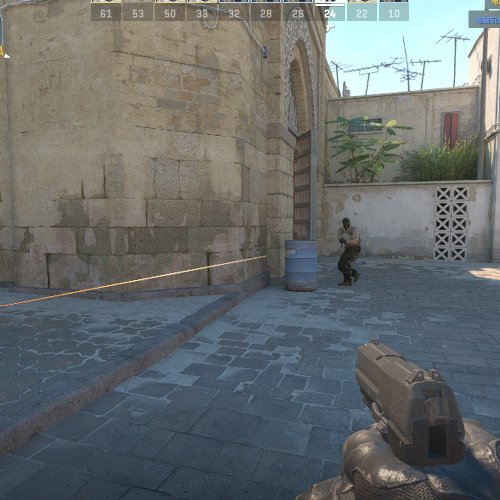t_body: (337, 217, 361, 286)
t_head: (342, 217, 351, 231)
